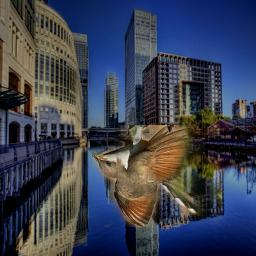Cuckoo: (92, 125, 222, 227)
